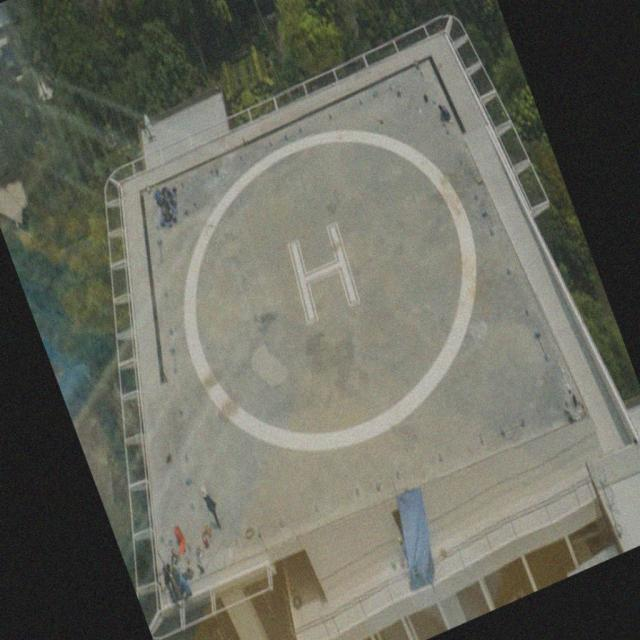helipad: (175, 124, 480, 458)
